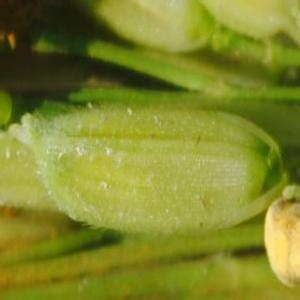False Smut: (271, 198, 300, 281)
